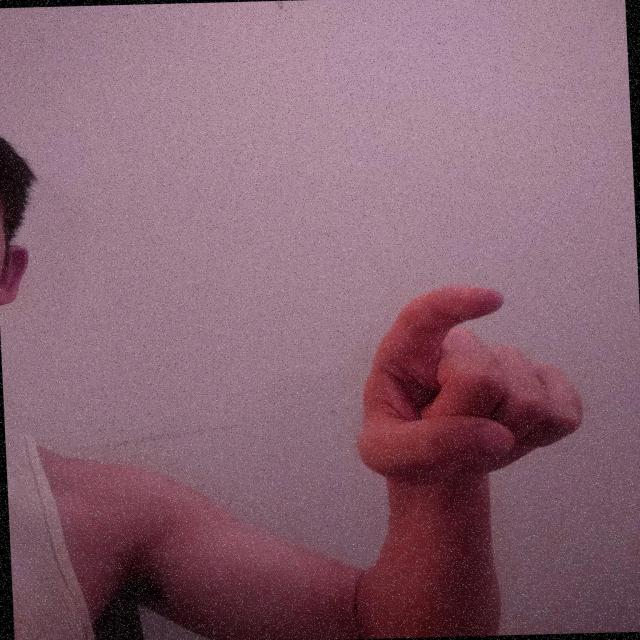Z: (343, 278, 592, 490)
